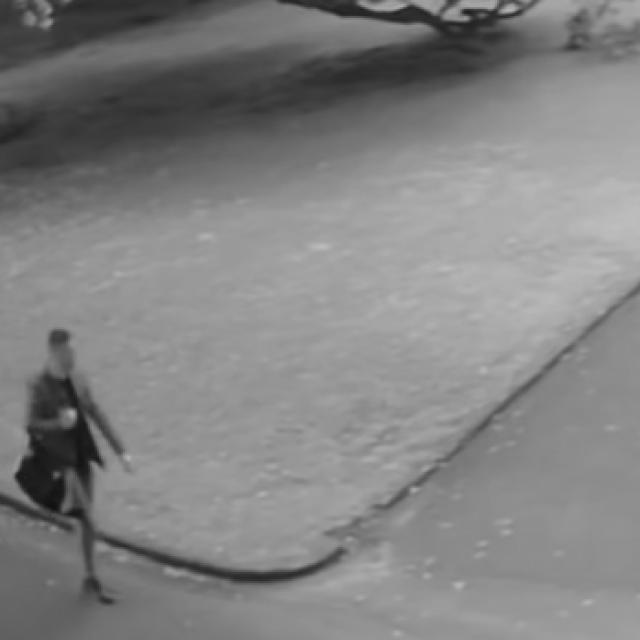Invader: (13, 326, 136, 604)
